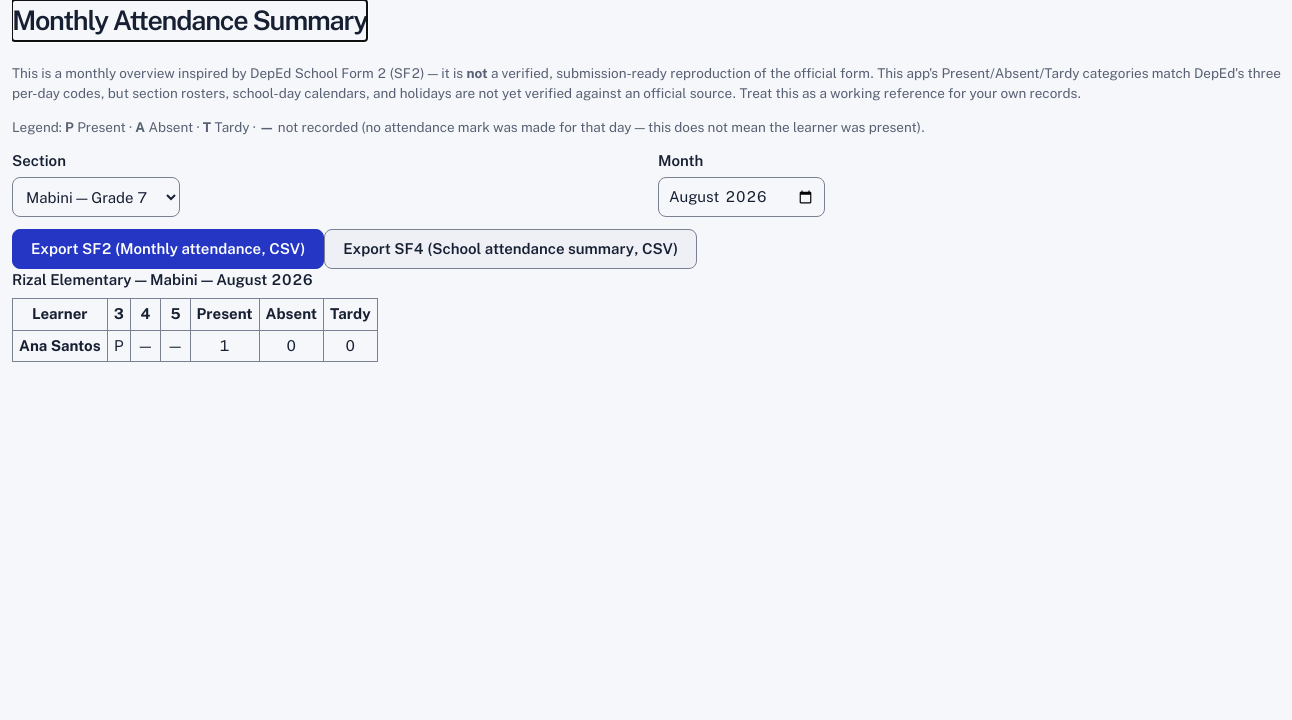
MonthlySummaryScreen › shows an error when the SF2 export folder could not be opened
This screenshot has width=1292, height=720.
Check: the column heading "Ana Santos" is shown, box [12, 330, 107, 362]
Click the button "Export SF2 (Monthly attendance, CSV)" at (168, 249), box [12, 229, 324, 269]
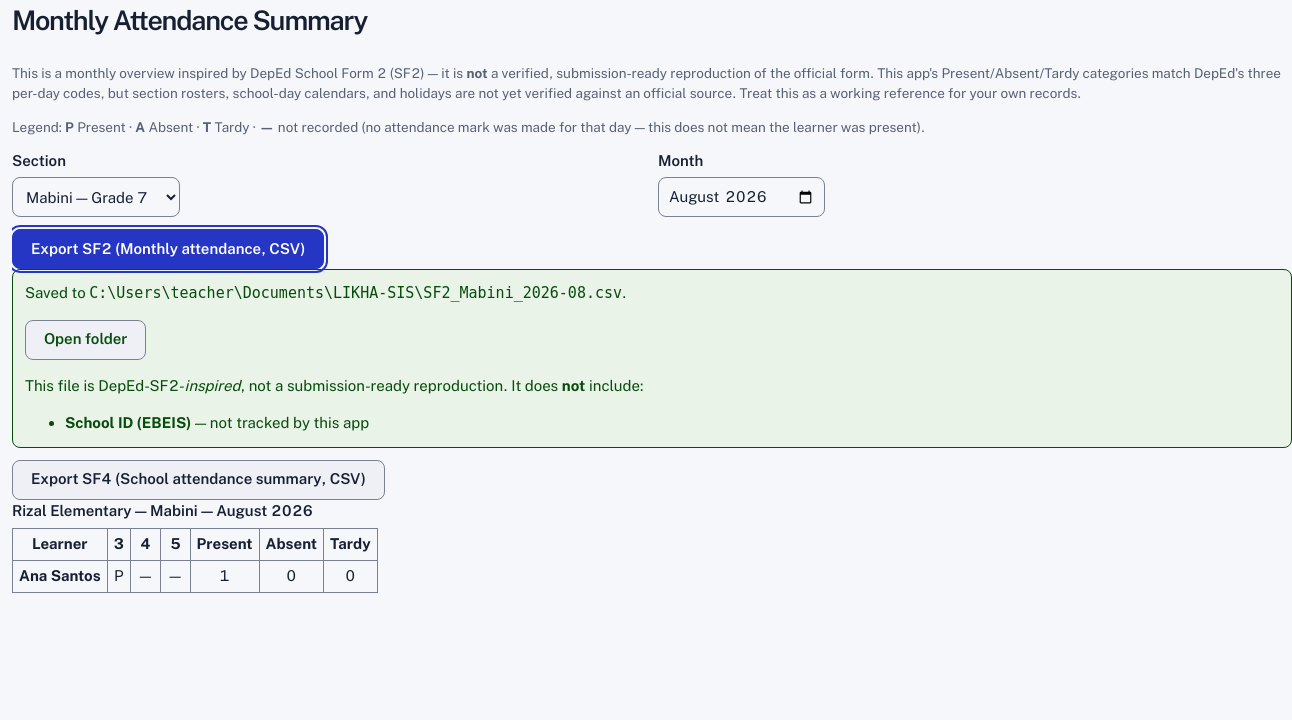
Check: the text "C:\\Users\\teacher\\Documents\\LIKHA-SIS\\SF2_Mabini_2026-08.csv" is shown, box [89, 284, 622, 302]
Click the button "Open folder" at (86, 340), box [25, 320, 146, 360]
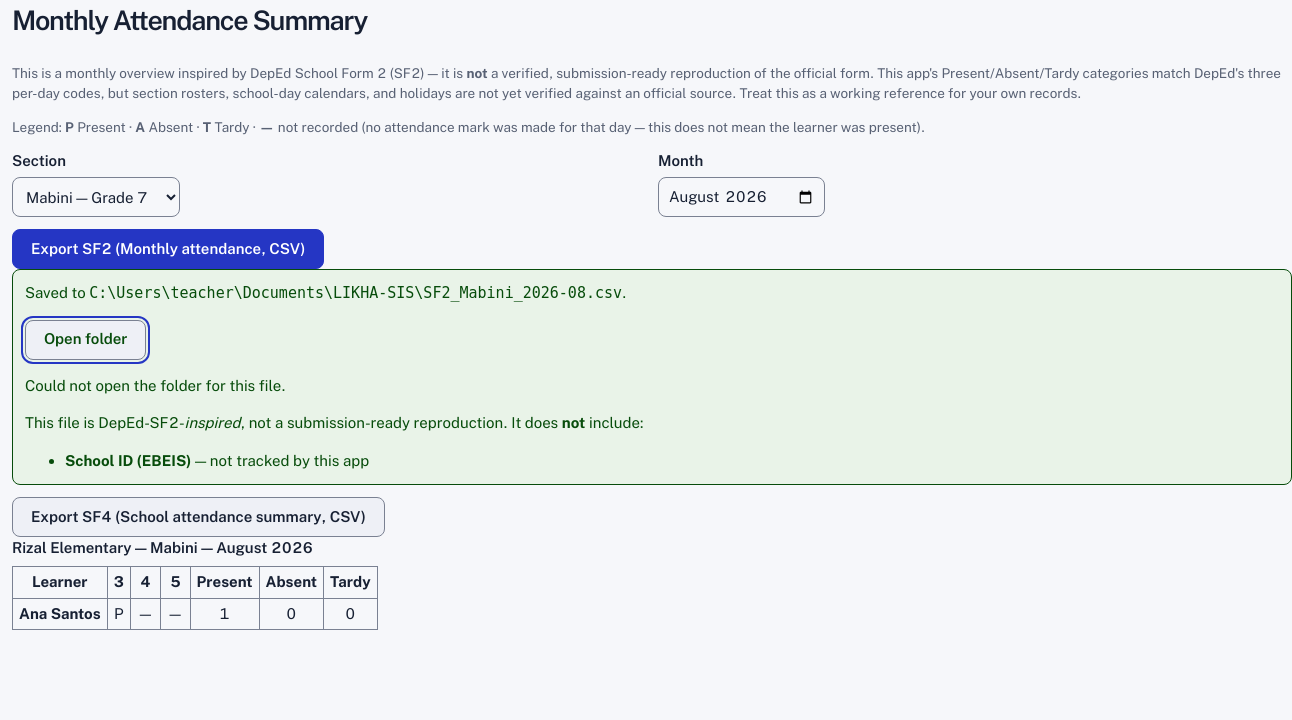
Check: the text "Could not open the folder for this file." is shown, box [25, 377, 286, 394]
